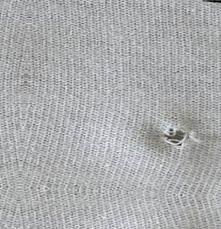hole: (158, 120, 190, 147)
